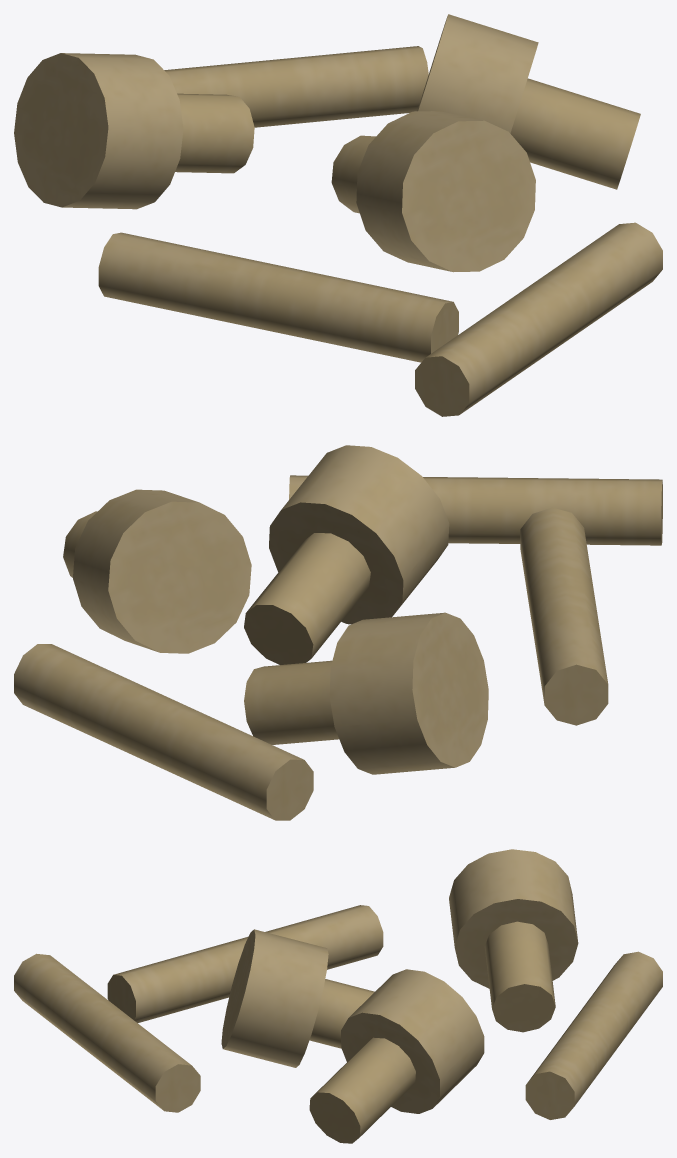
File: SM_FireExtinguisher_Part_08.FBX
3 renders of one model, top to bottom at view 1: azimuth 30°, elevation 25°; view 2: azimuth 150°, elevation 25°; view 3: azimuth 270°, elevation 25°, orthographic. The views are drawn at different scales.
Parts seen in each view (by area): view 1: SM_FireExtinguisher_Part_08_LOD0; view 2: SM_FireExtinguisher_Part_08_LOD0; view 3: SM_FireExtinguisher_Part_08_LOD0.
Part boxes in pixels (x1,y1,x2,y2): SM_FireExtinguisher_Part_08_LOD0: (14, 14, 662, 416); SM_FireExtinguisher_Part_08_LOD0: (14, 445, 662, 820); SM_FireExtinguisher_Part_08_LOD0: (14, 849, 662, 1143).
Size of the model in its own units: 7.97 by 10.35 by 2.23.
